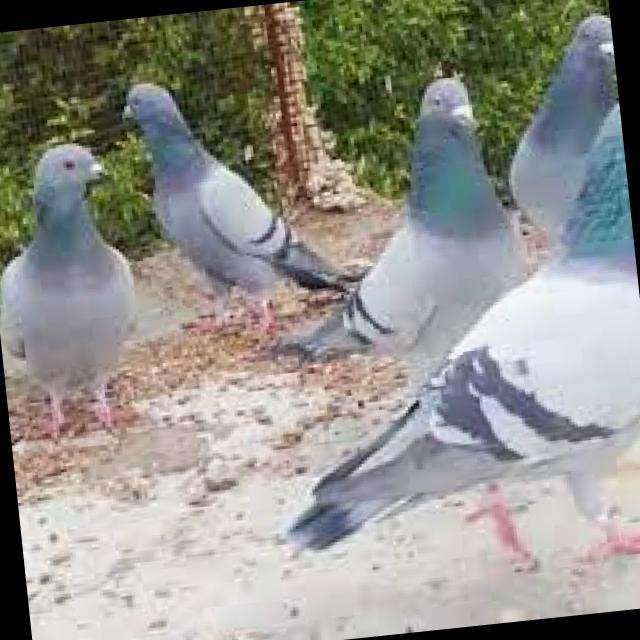bird: (251, 97, 640, 600), (240, 79, 544, 378), (114, 60, 362, 335), (0, 133, 164, 450), (497, 2, 632, 244)
